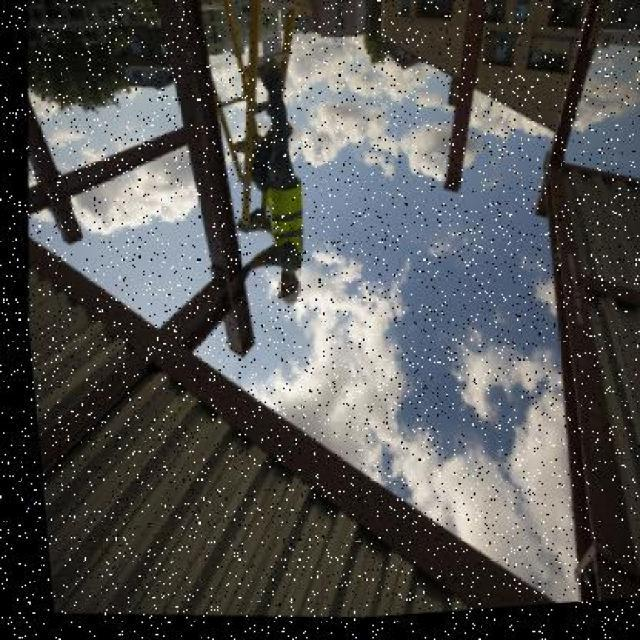vest: (248, 176, 307, 276)
